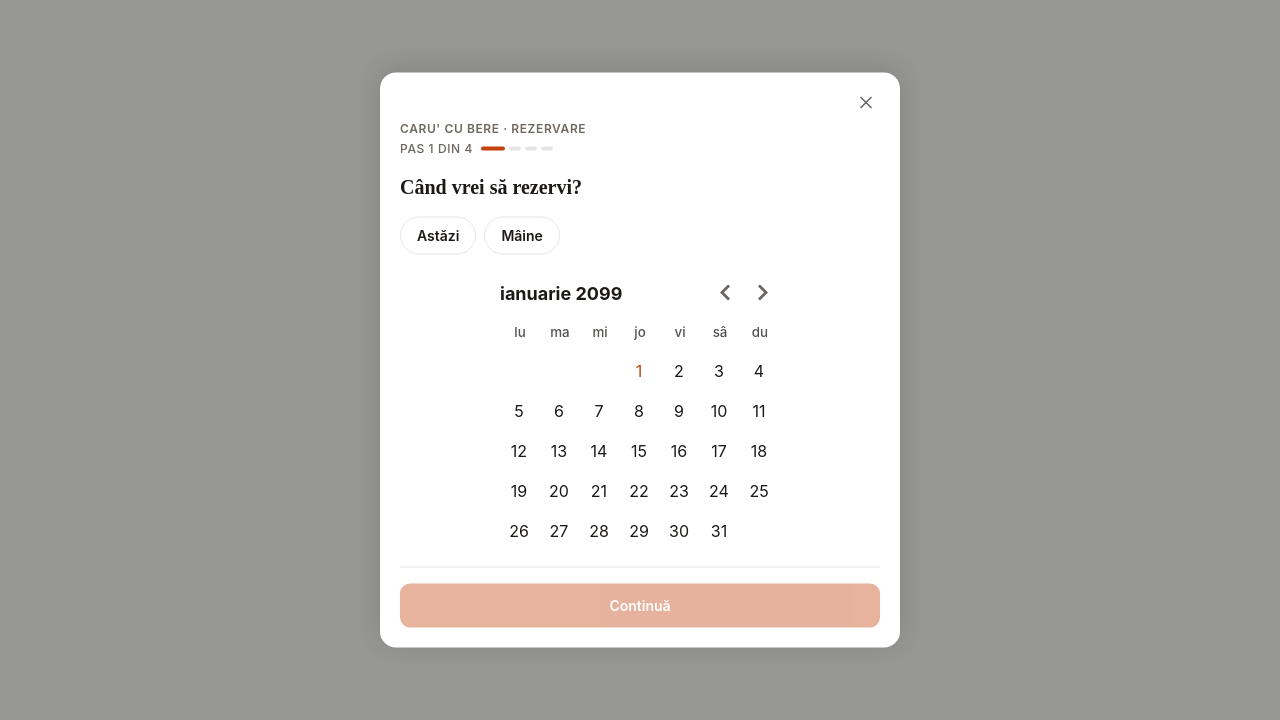
ReservationSheetV2 orchestrator › back button navigates to previous step without clearing data
// Advance to step 2
Click the button "Astăzi" at {"x": 438, "y": 236}, box [400,216,476,254]
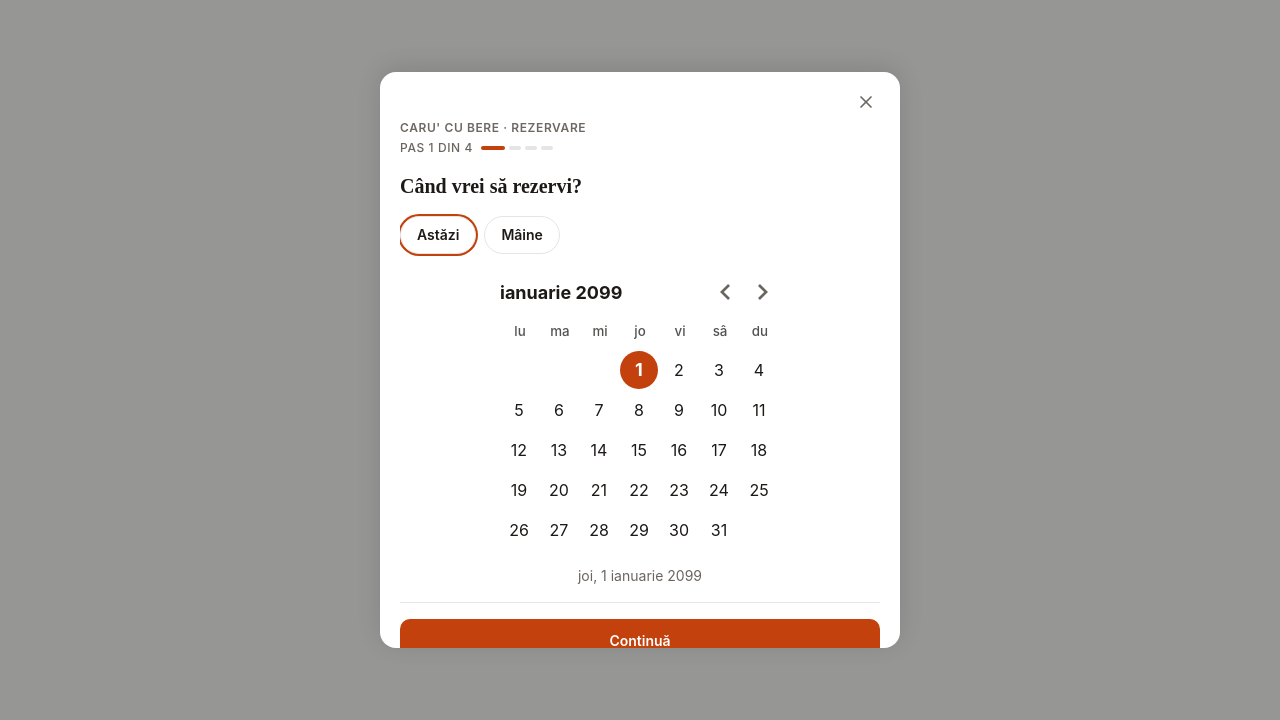
Click the button "Continuă" at {"x": 640, "y": 641}, box [400,619,880,663]
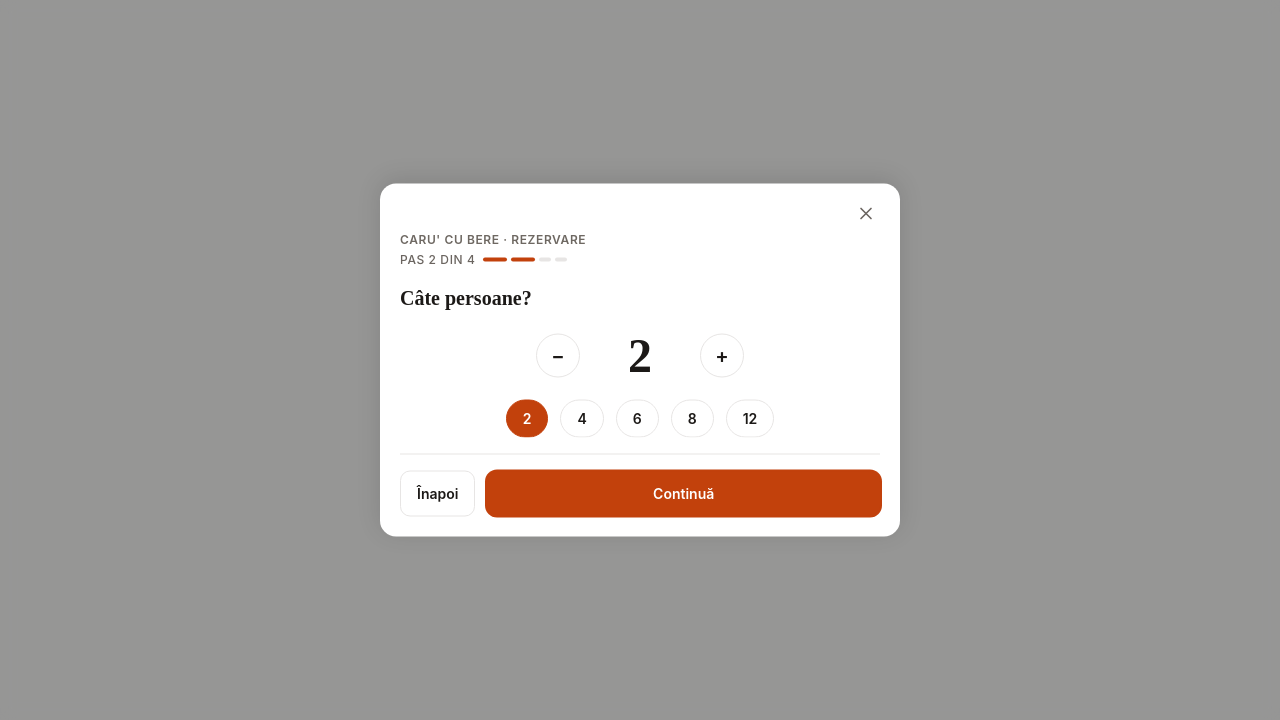
Check: the heading "Câte persoane?" is shown, box [400,286,532,308]
// Go back to step 1
Click the button "Înapoi" at {"x": 438, "y": 494}, box [400,470,475,516]
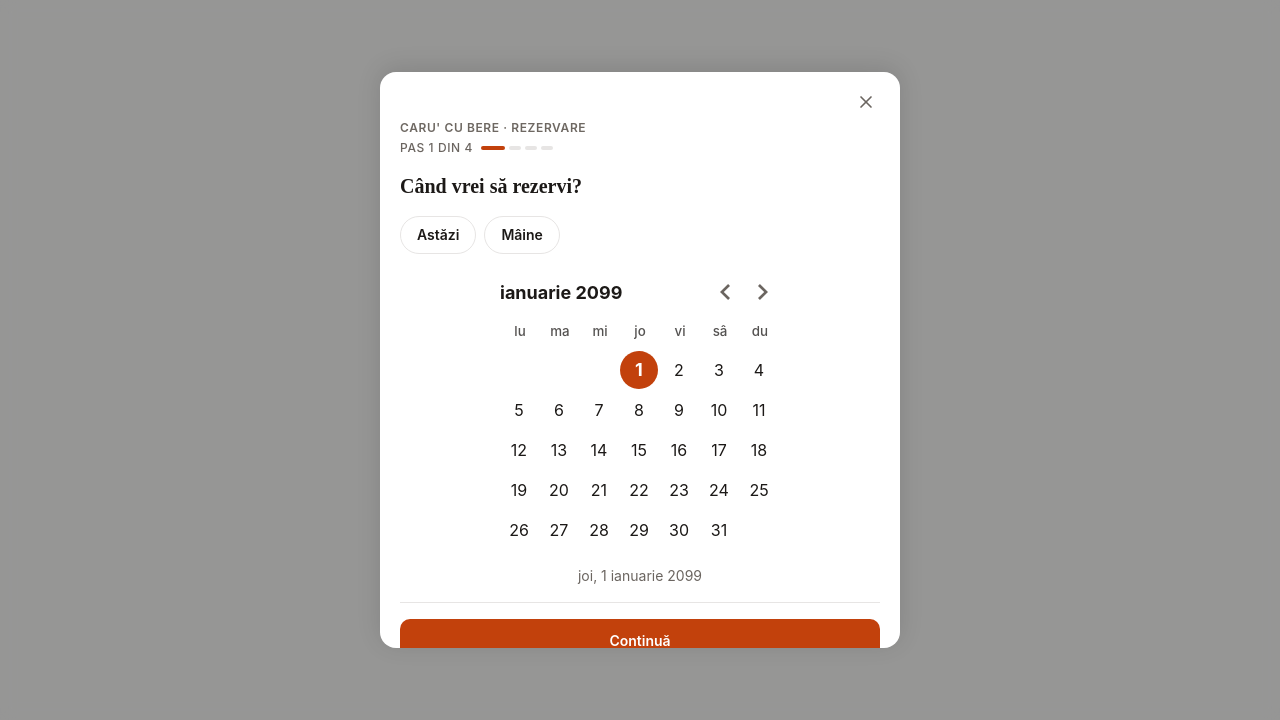
Check: the heading "Când vrei să rezervi?" is shown, box [400,175,582,197]
Check: the button "Înapoi" is gone
